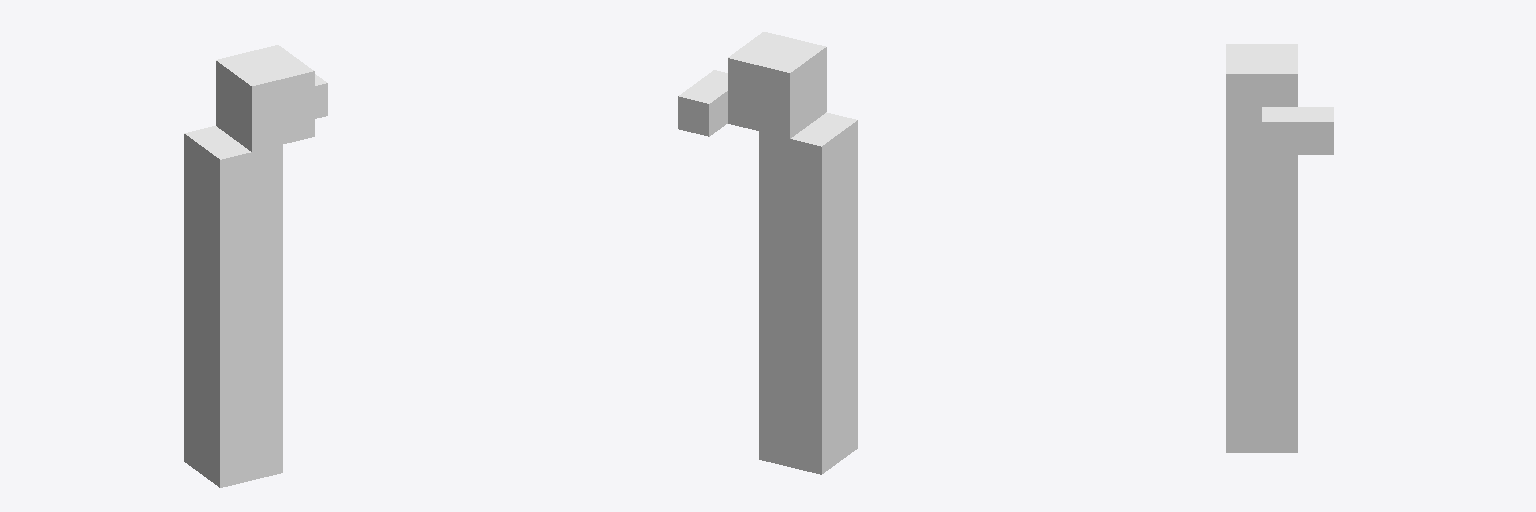
File: EnemySkeleton3-5.obj
3 renders of one model, left to right at view 1: azimuth 30°, elevation 25°; view 2: azimuth 150°, elevation 25°; view 3: azimuth 270°, elevation 25°, orthographic.
Parts seen in each view (by area): view 1: object 1; view 2: object 1; view 3: object 1.
Boxes of the visible parts, x1=… form: object 1: x1=184, y1=45, x2=327, y2=487; object 1: x1=678, y1=32, x2=857, y2=474; object 1: x1=1226, y1=44, x2=1333, y2=452.
Bounding box in the file's own units: 0.4 × 1.2 × 0.3.